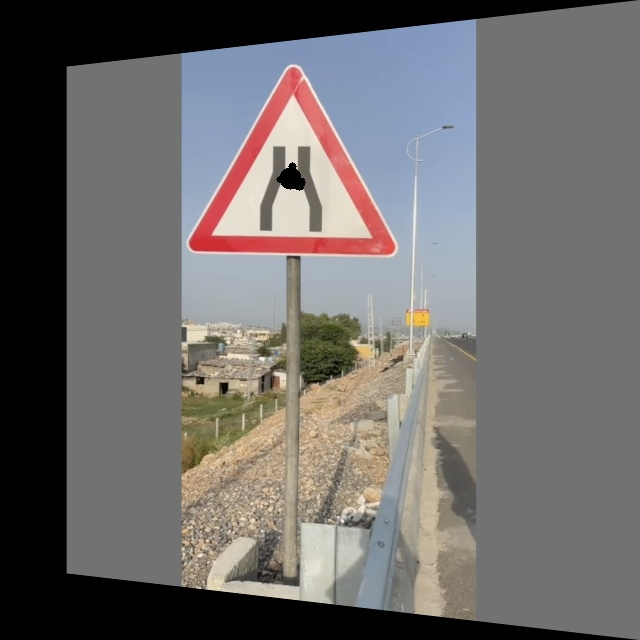Narrow_Road_Ahead: (200, 53, 397, 261)
